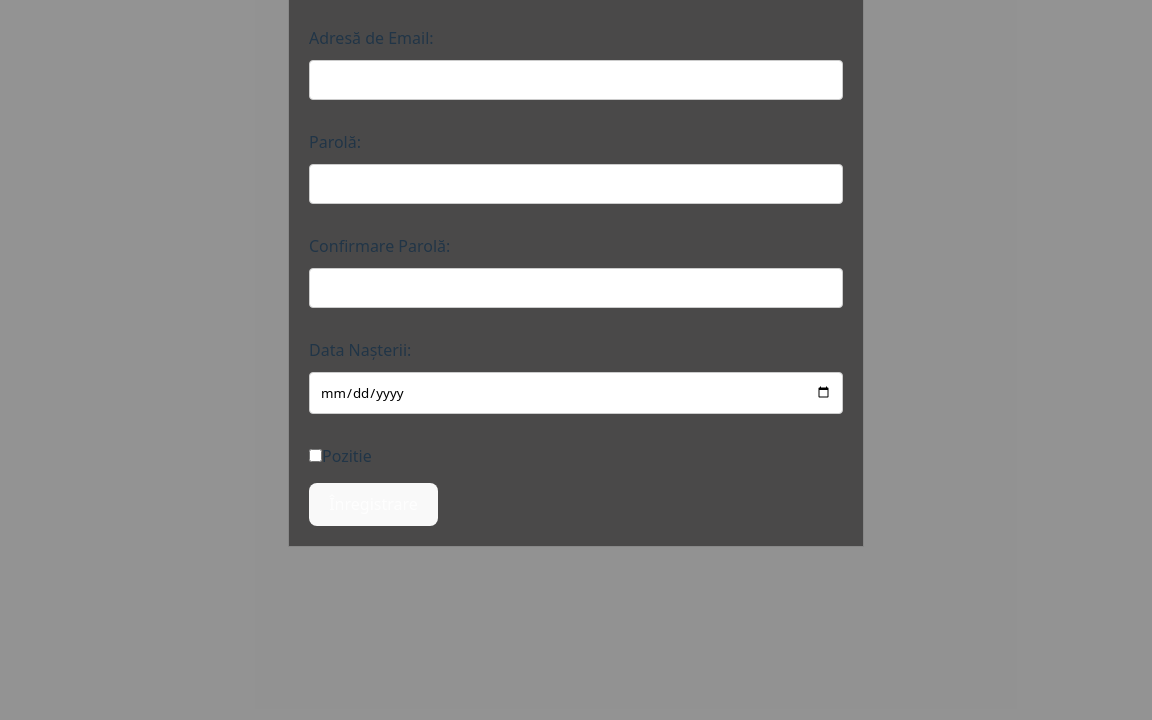
Test: RegistrationModal Component › should validate verification code
The image size is (1152, 720).
(page scrolled)
Click the checkbox labelled "Pozitie" at (316, 455), box x1=309 y1=449 x2=322 y2=462
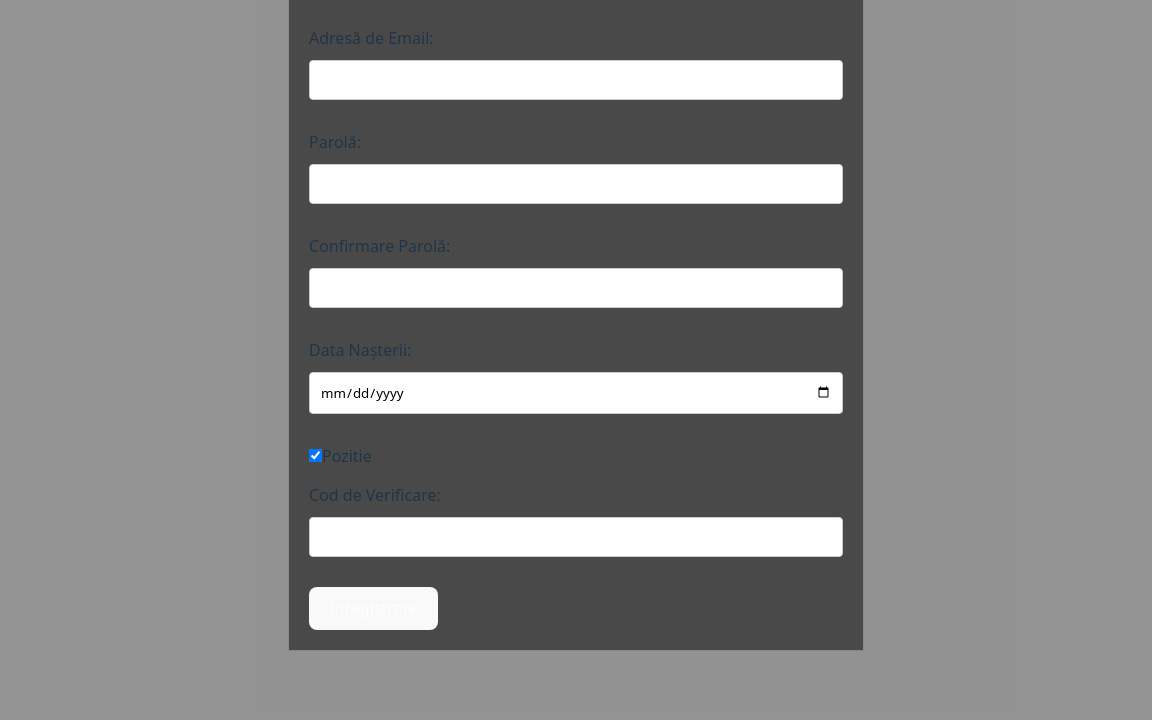
Type "invalidcode" into the password field labelled "Cod de Verificare:" at (576, 537), box x1=309 y1=517 x2=843 y2=557
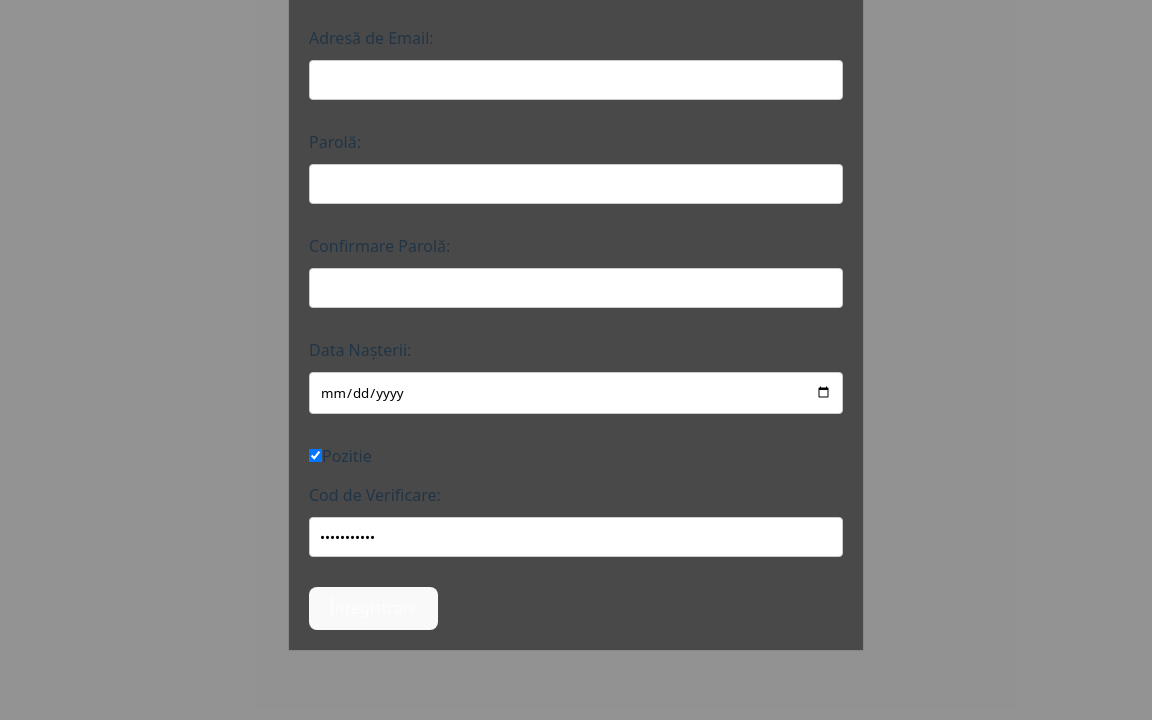
Click the button "Înregistrare" at (374, 608), box x1=309 y1=587 x2=438 y2=630
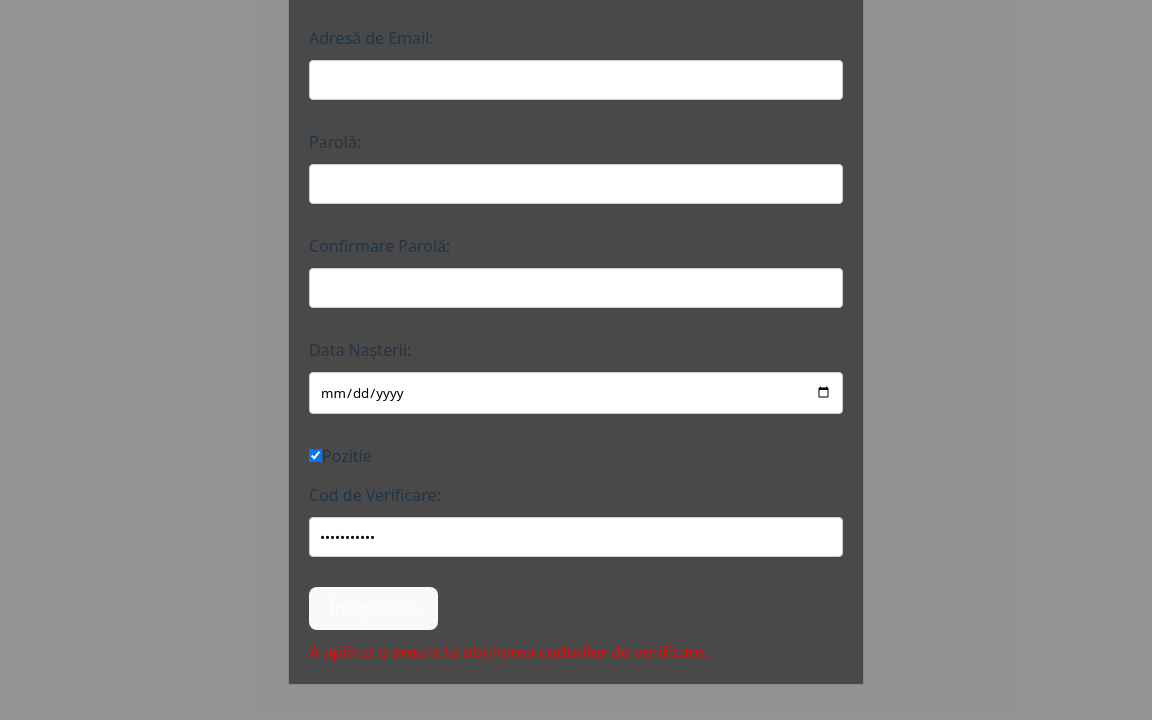
expect the text "Codul de verificare este incorect." is shown: met, box x1=309 y1=641 x2=708 y2=663
